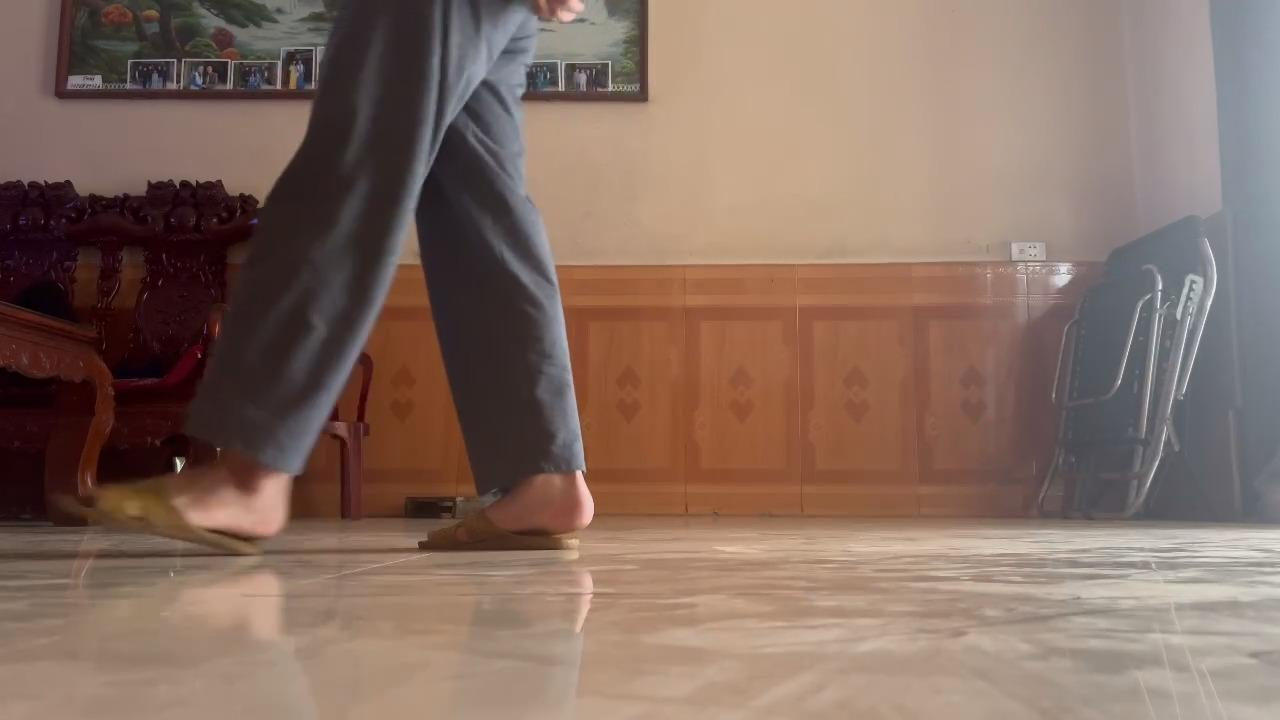no-boot: (32, 463, 306, 562), (405, 473, 607, 562)
